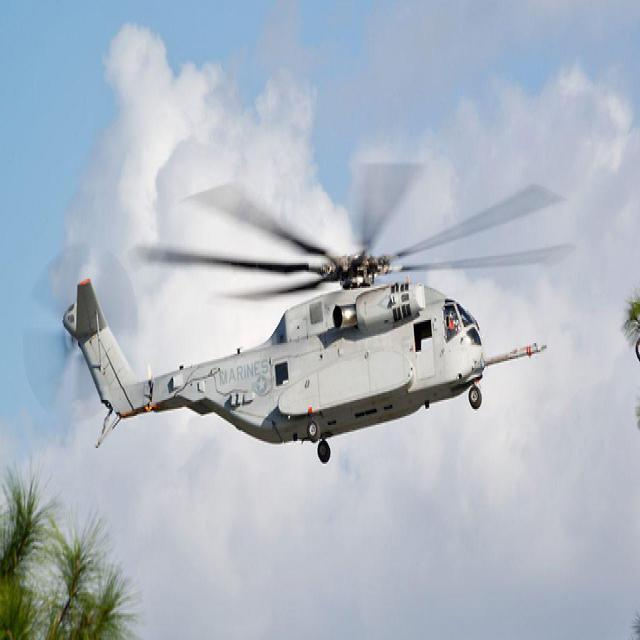helicopter: (54, 154, 571, 470)
